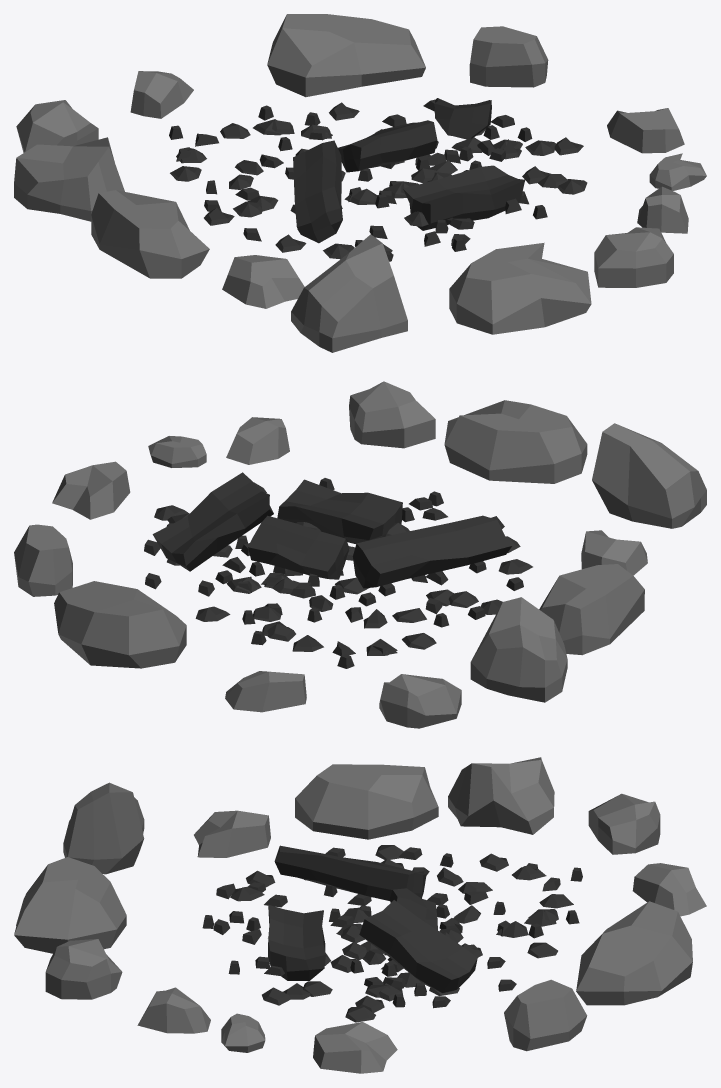
The model's file is Bonfire2.fbx.
The picture shows the model from 3 angles, top to bottom: view 1: azimuth 30°, elevation 25°; view 2: azimuth 150°, elevation 25°; view 3: azimuth 270°, elevation 25°; orthographic projection. The views are drawn at different scales.
Visible parts, largest first — view 1: Bonfire.001; view 2: Bonfire.001; view 3: Bonfire.001.
Boxes of the visible parts, left/top/right/bottom form: Bonfire.001: left=14, top=14, right=706, bottom=352; Bonfire.001: left=14, top=381, right=706, bottom=728; Bonfire.001: left=14, top=757, right=706, bottom=1073.
Bounding box in the file's own units: 122 × 17.99 × 129.
